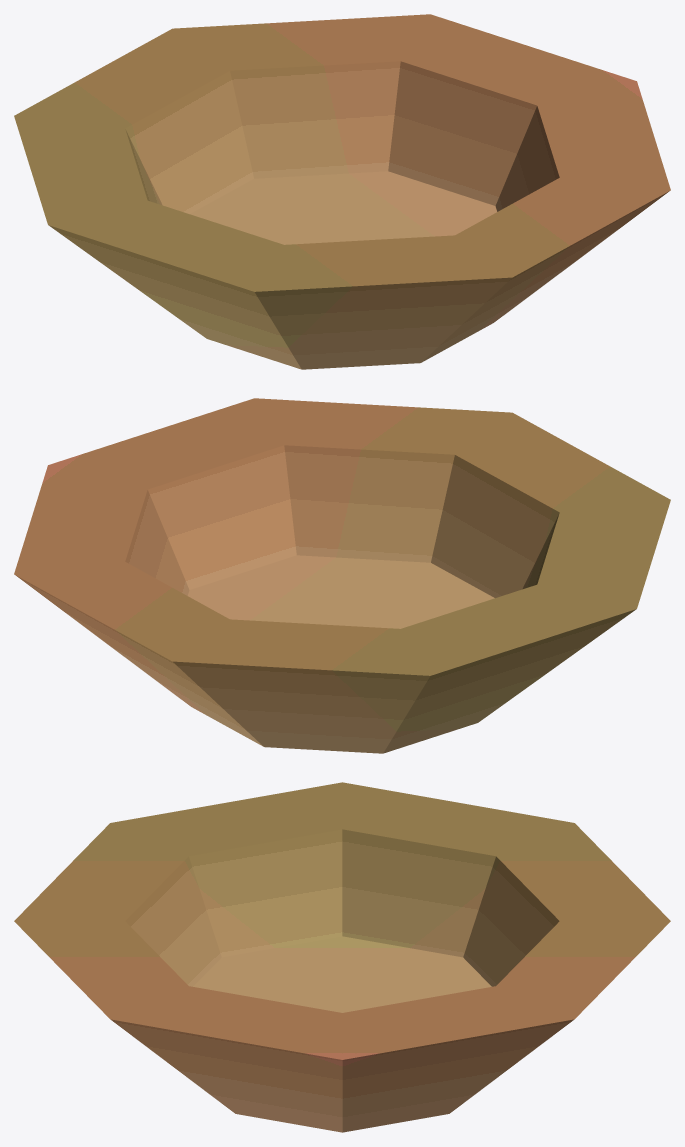
Rendered from DC_TorchTop.fbx.
The picture shows the model from 3 angles, top to bottom: view 1: azimuth 30°, elevation 25°; view 2: azimuth 150°, elevation 25°; view 3: azimuth 270°, elevation 25°; orthographic projection. The views are drawn at different scales.
Visible parts, largest first — view 1: TorchTop; view 2: TorchTop; view 3: TorchTop.
Part boxes in pixels (left/top/right/bottom): TorchTop: left=14, top=14, right=670, bottom=369; TorchTop: left=14, top=398, right=670, bottom=753; TorchTop: left=14, top=782, right=670, bottom=1132.
Bounding box in the file's own units: 0.3875 × 0.096 × 0.3875.
1 material, 1 textured.
